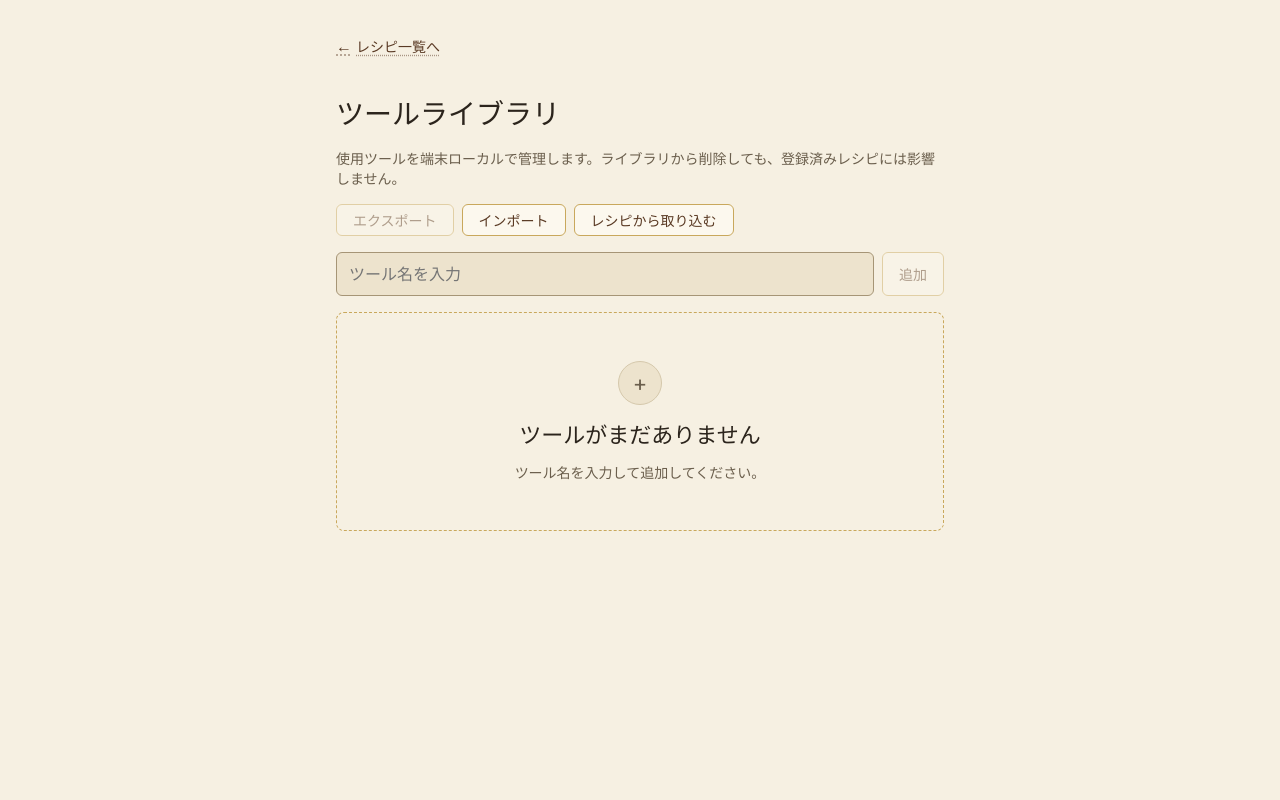
Test: ToolsPage › レシピから取り込む（T59・§2.8一括移行） › 再実行しても冪等（2回目は0件追加・件数不変のNマージ）
Check: the heading "ツールがまだありません" is shown, box [519, 417, 761, 450]
Click the button "レシピから取り込む". click: click(654, 220)
box: [574, 204, 734, 236]
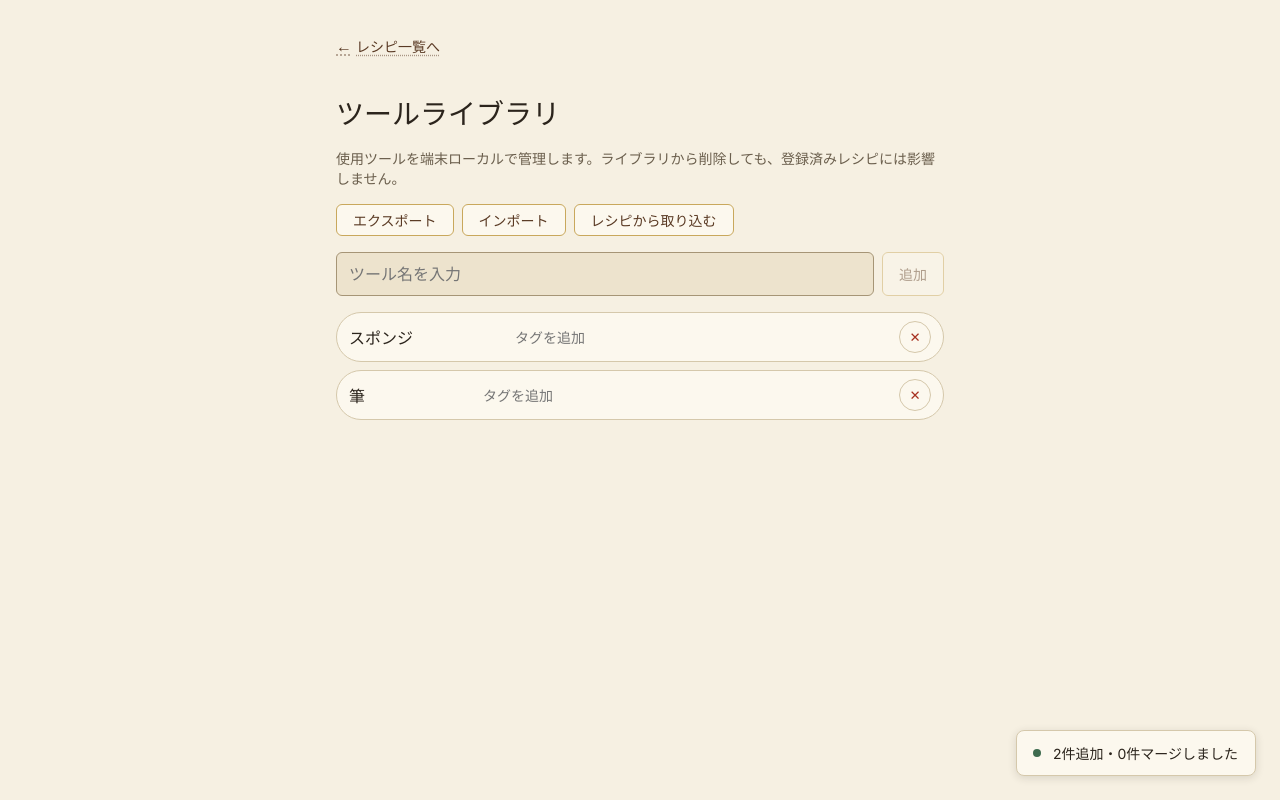
Check: the text "2件追加・0件マージしました" is shown, box [1053, 743, 1239, 763]
Click the button "レシピから取り込む". click: click(654, 220)
box: [574, 204, 734, 236]
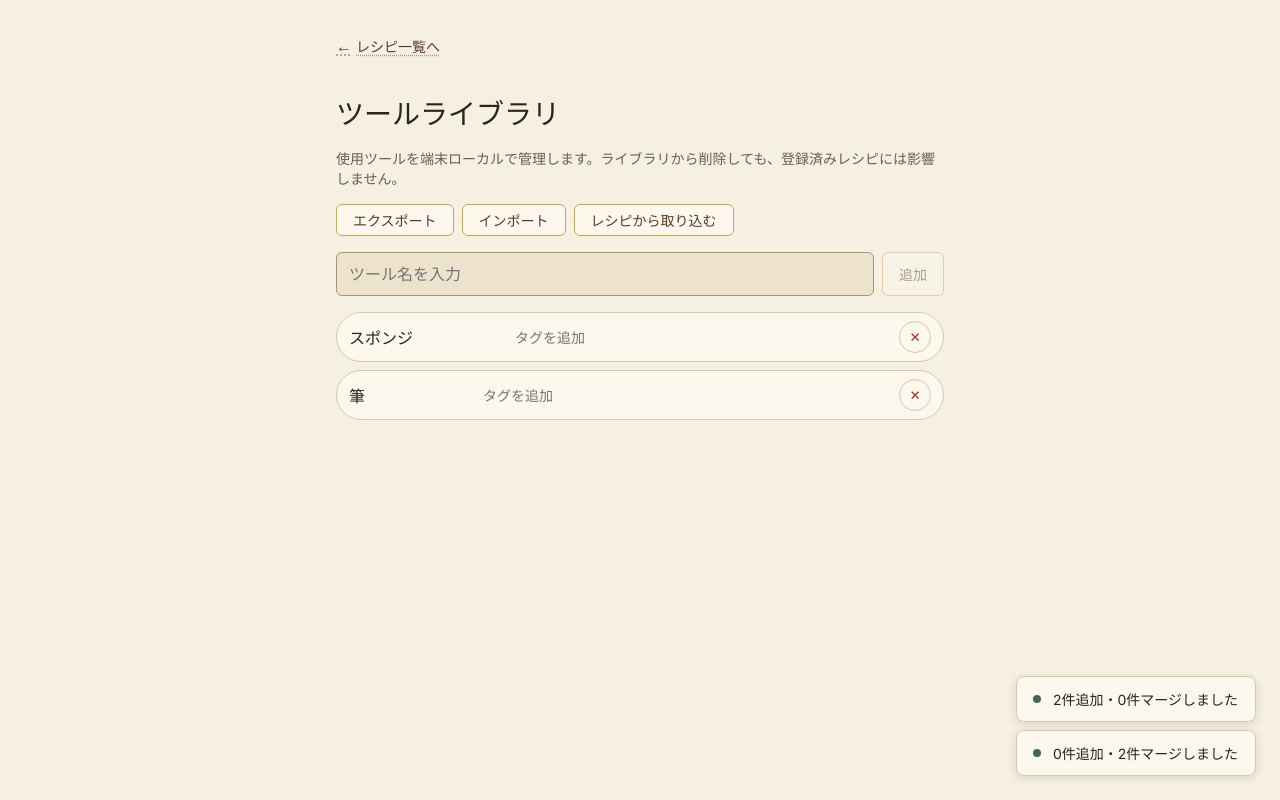
Check: the text "0件追加・2件マージしました" is shown, box [1053, 743, 1239, 763]
